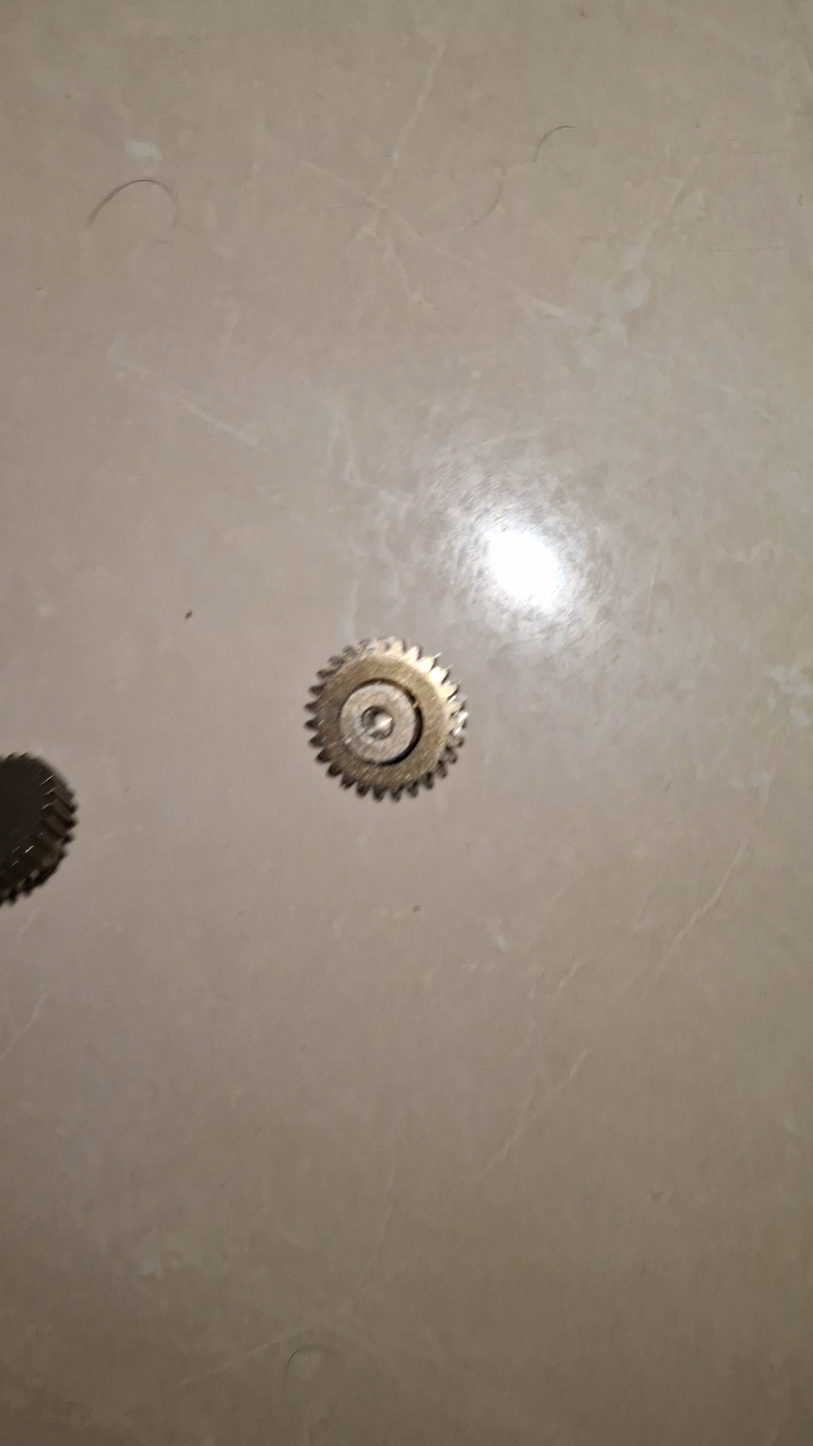spur gear: (306, 639, 467, 798), (0, 754, 76, 903)
